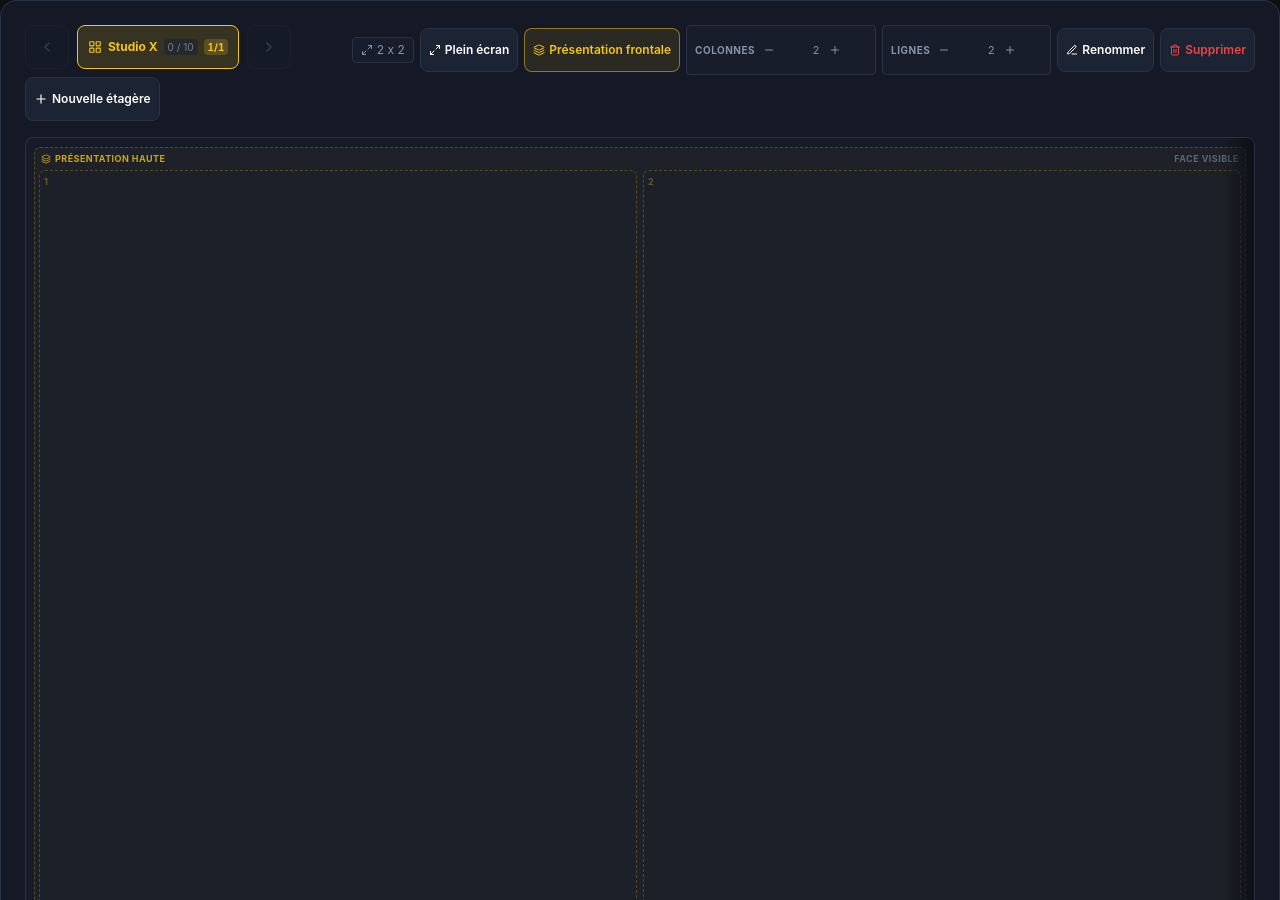
Test case: ShelfLayoutEditor › toggles the create form open and closed via the New shelf button
The image size is (1280, 900).
Expected: the field with placeholder "Nom (ex" is not shown
Click the button "Nouvelle étagère" at (92, 99), box x1=25 y1=77 x2=160 y2=121
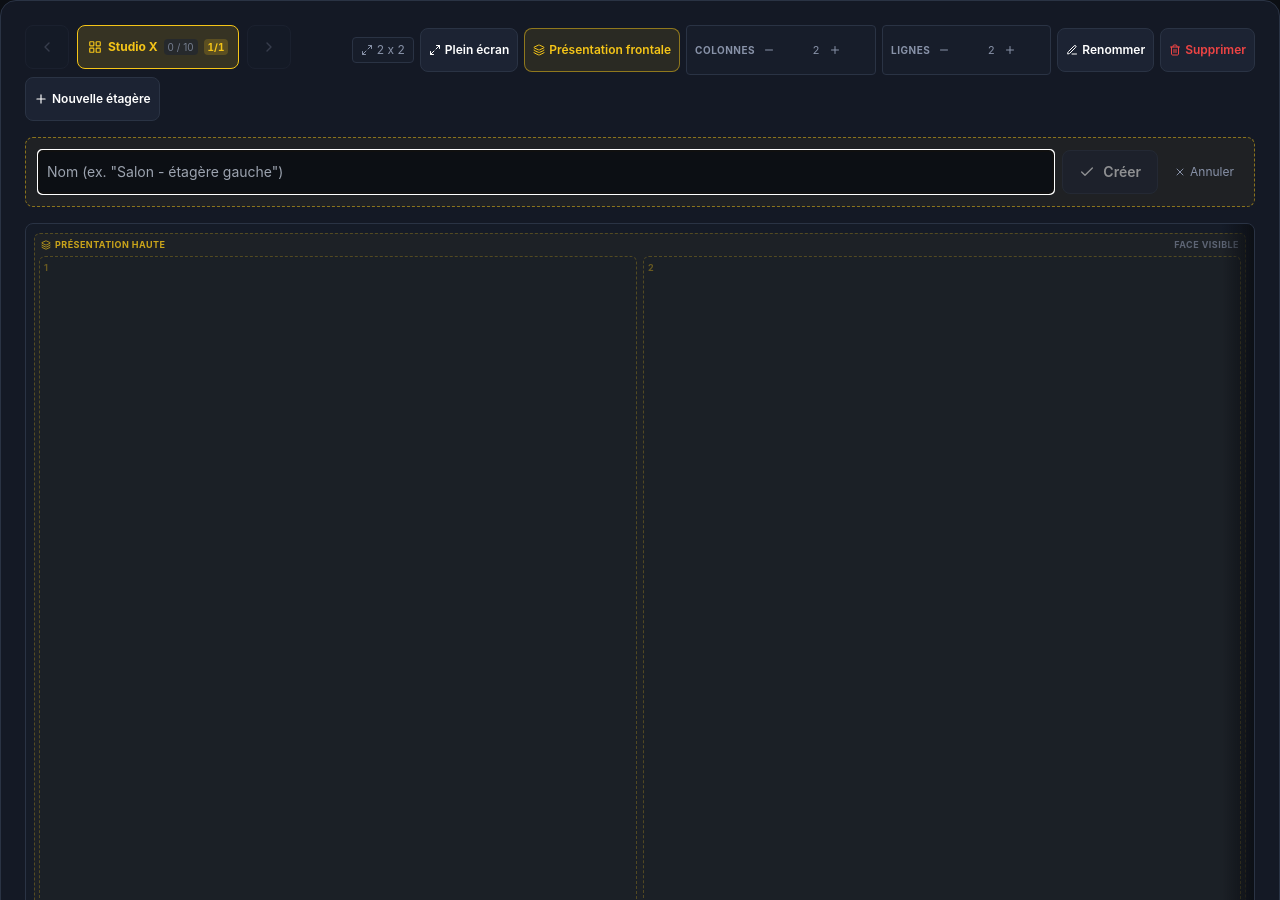
Expected: the field with placeholder "Nom (ex. \"Salon - étagère gauche\")" is shown, x1=38 y1=150 x2=1054 y2=194
